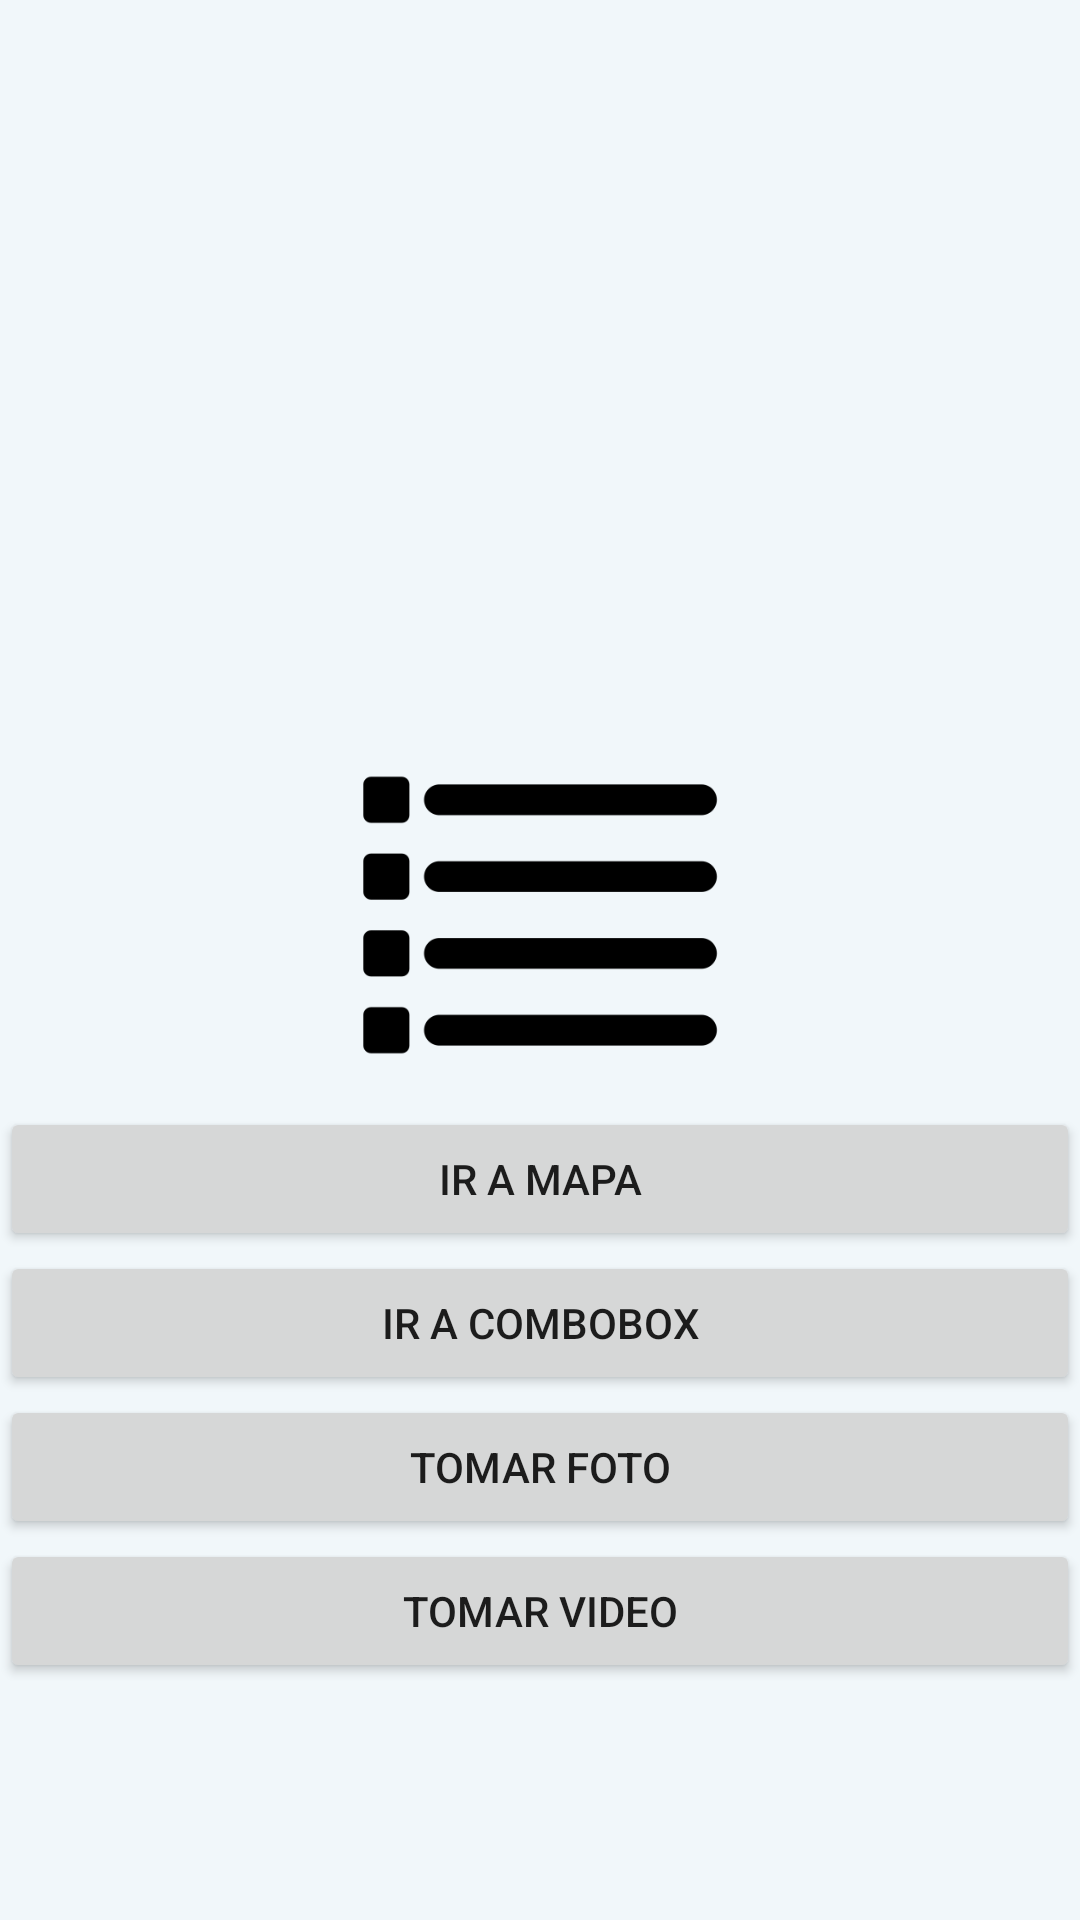

Point at icon controls on the screen. Image size 1080 × 1920, points as [x,y].
list: [540,915]
